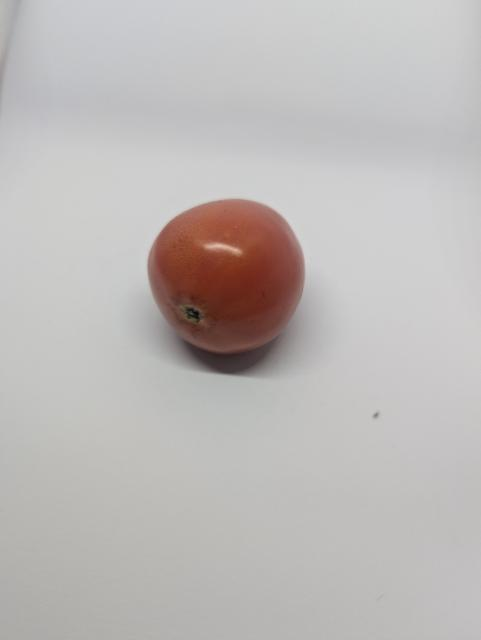red: (136, 191, 321, 374)
